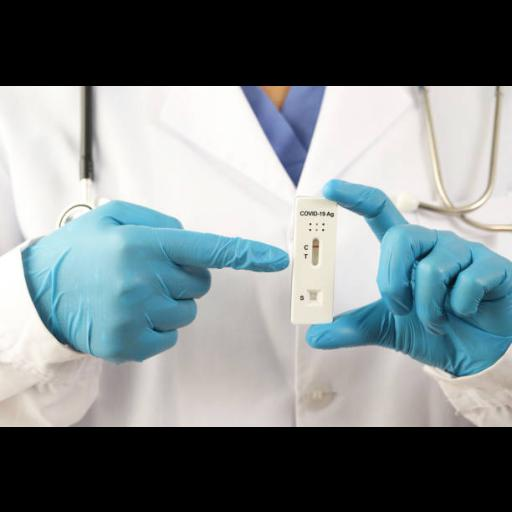Neg: (294, 196, 332, 324)
